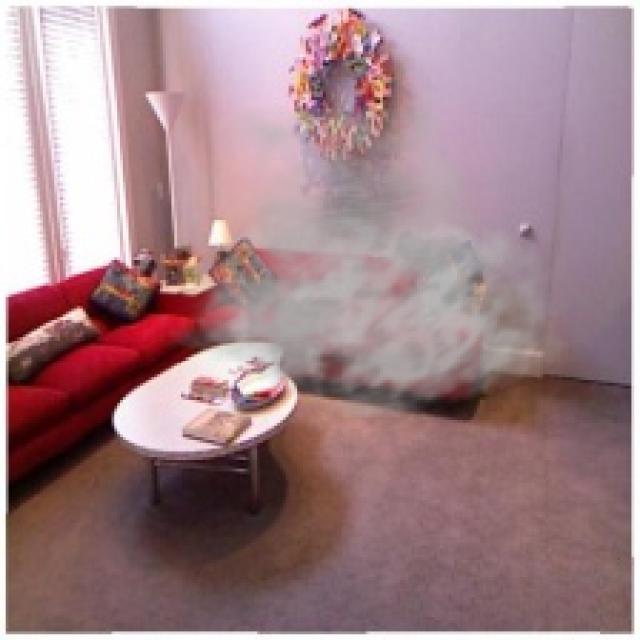Smoke: (160, 74, 569, 420)
